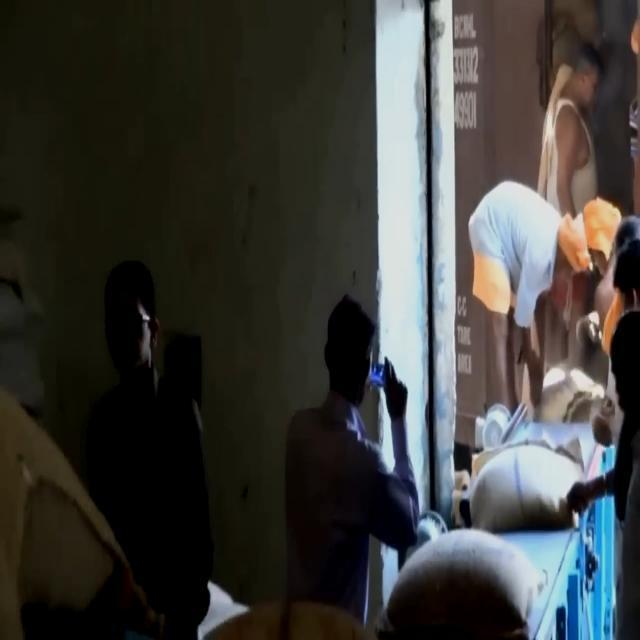gunny_bag: (372, 532, 548, 638), (470, 447, 580, 535)
